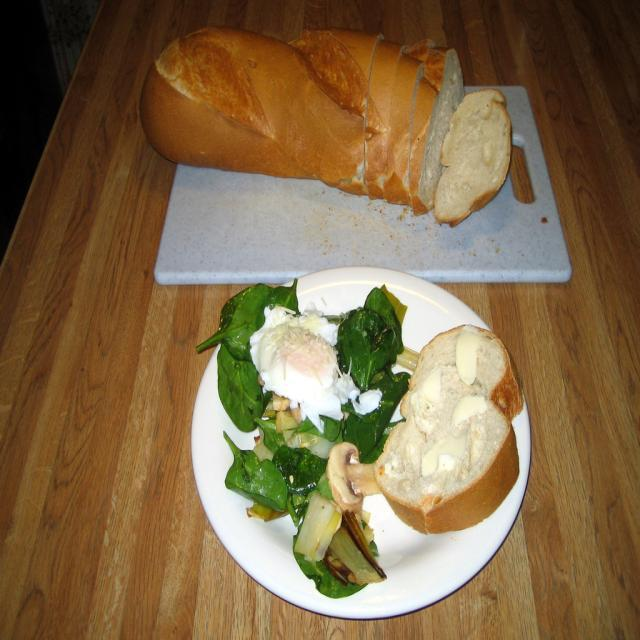Cheese: (245, 303, 385, 431), (419, 437, 470, 478), (410, 366, 446, 422), (451, 324, 479, 386), (454, 392, 492, 424)
